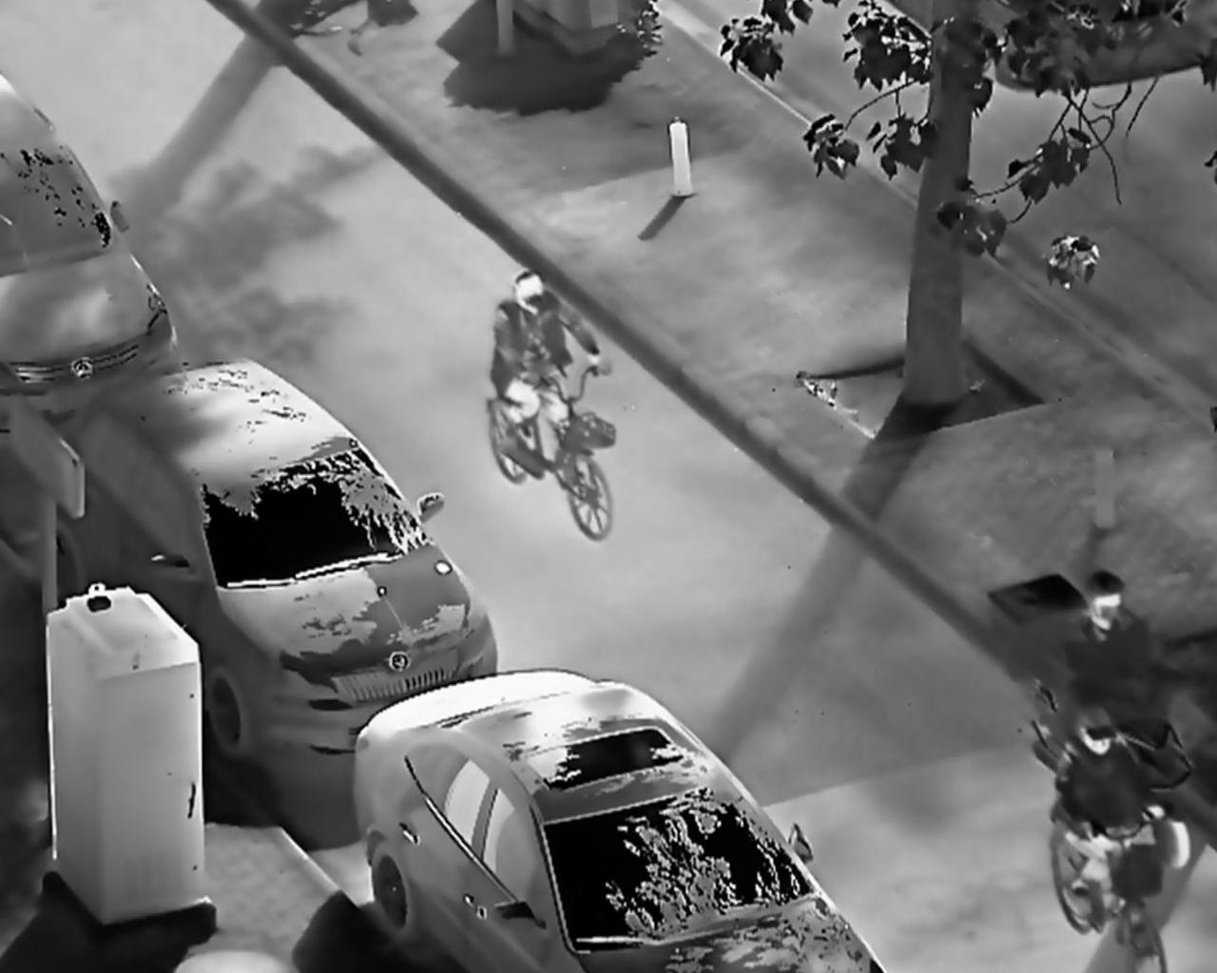person: (1048, 703, 1173, 941), (490, 266, 610, 488)
